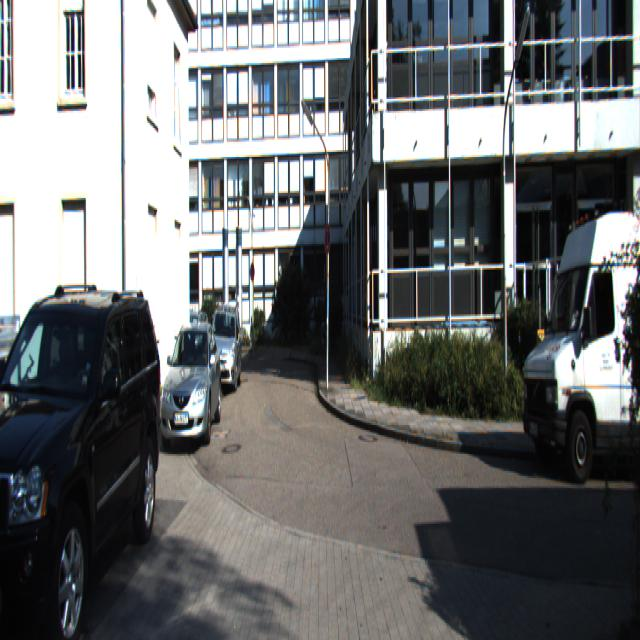Car: (0, 264, 166, 638), (516, 208, 640, 486), (156, 318, 224, 452), (206, 301, 245, 392)
